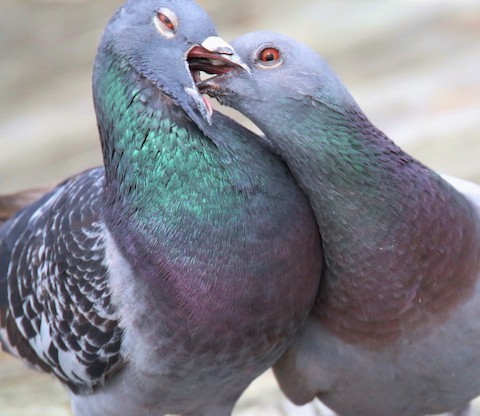pigeon: (7, 3, 319, 410), (180, 28, 478, 412)
